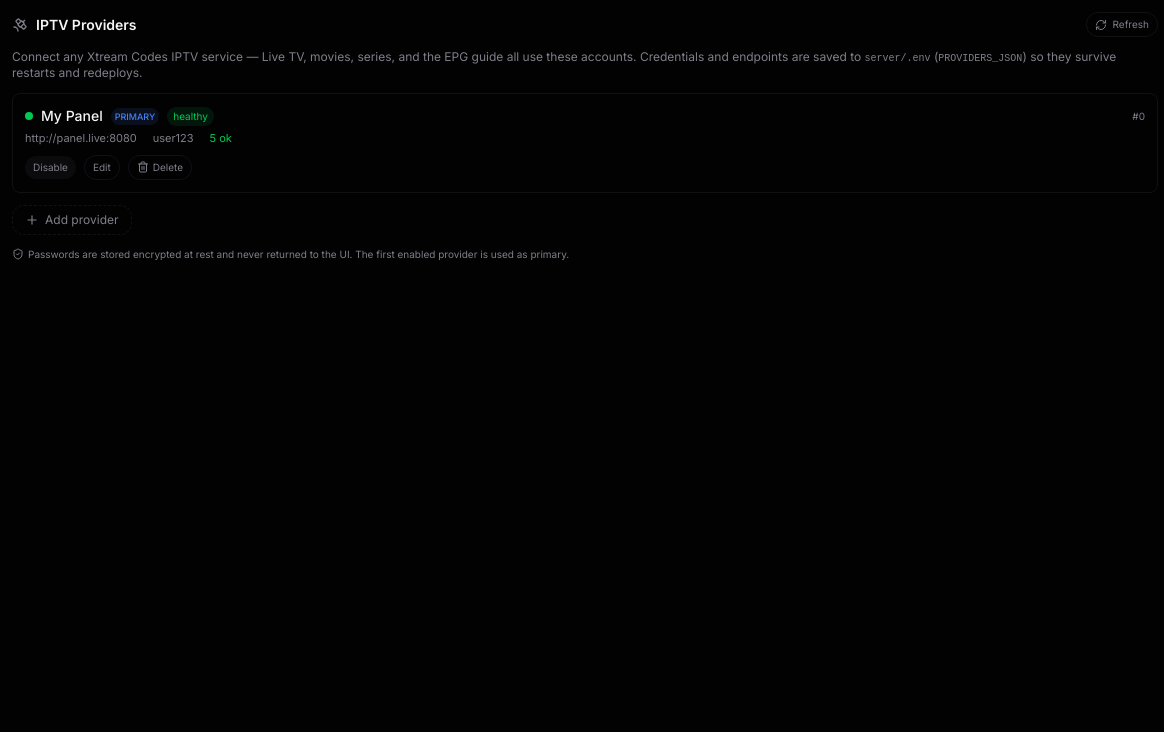
Test: ProviderSettings › opens the add form and adds a provider
Check: the text "Connect any Xtream Codes IPTV service" is shown, box [12,49,861,64]
Click the button "Add provider" at (72, 220), box [12,205,132,235]
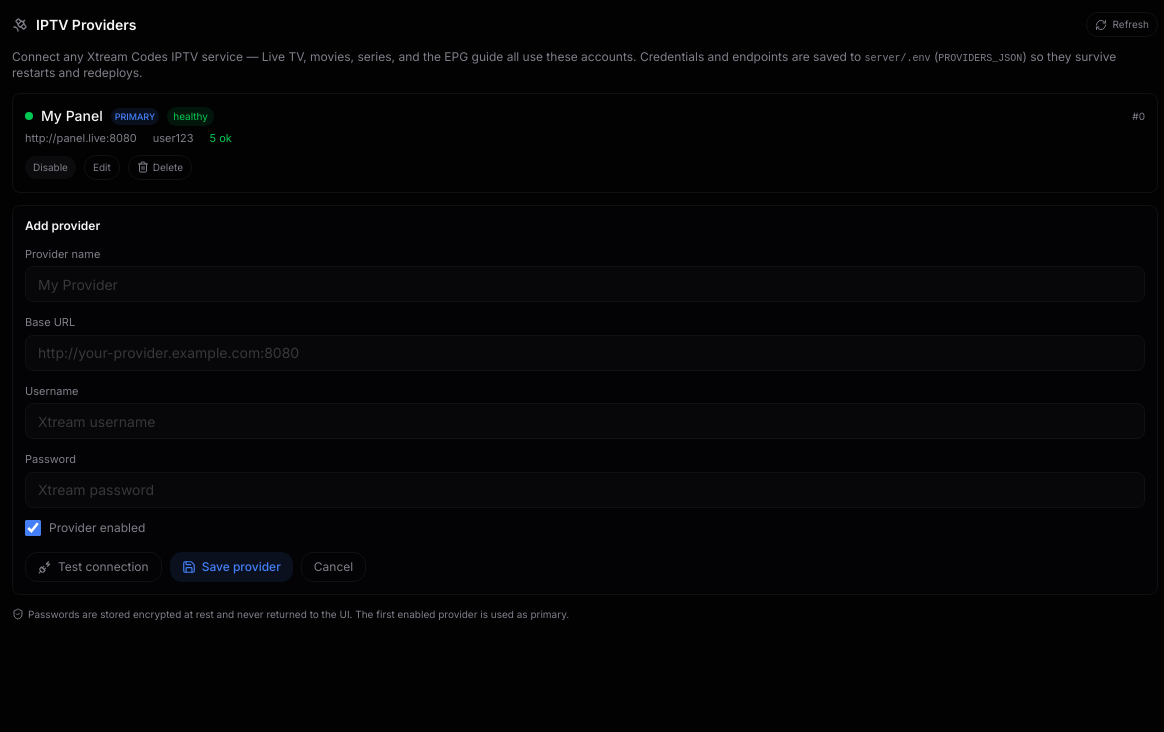
Type "http://new.live" into the field labelled "Base URL" at (585, 353), box [25,335,1145,371]
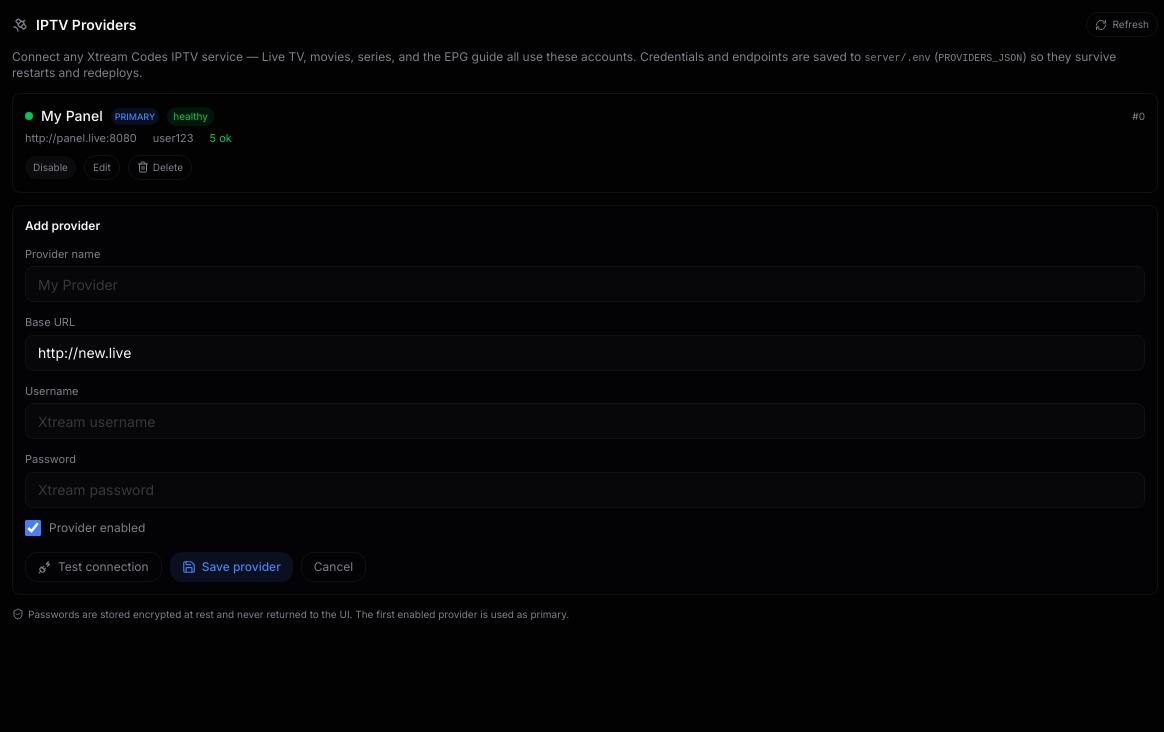
Type "newuser" into the field labelled "Username" at (585, 421), box [25,403,1145,439]
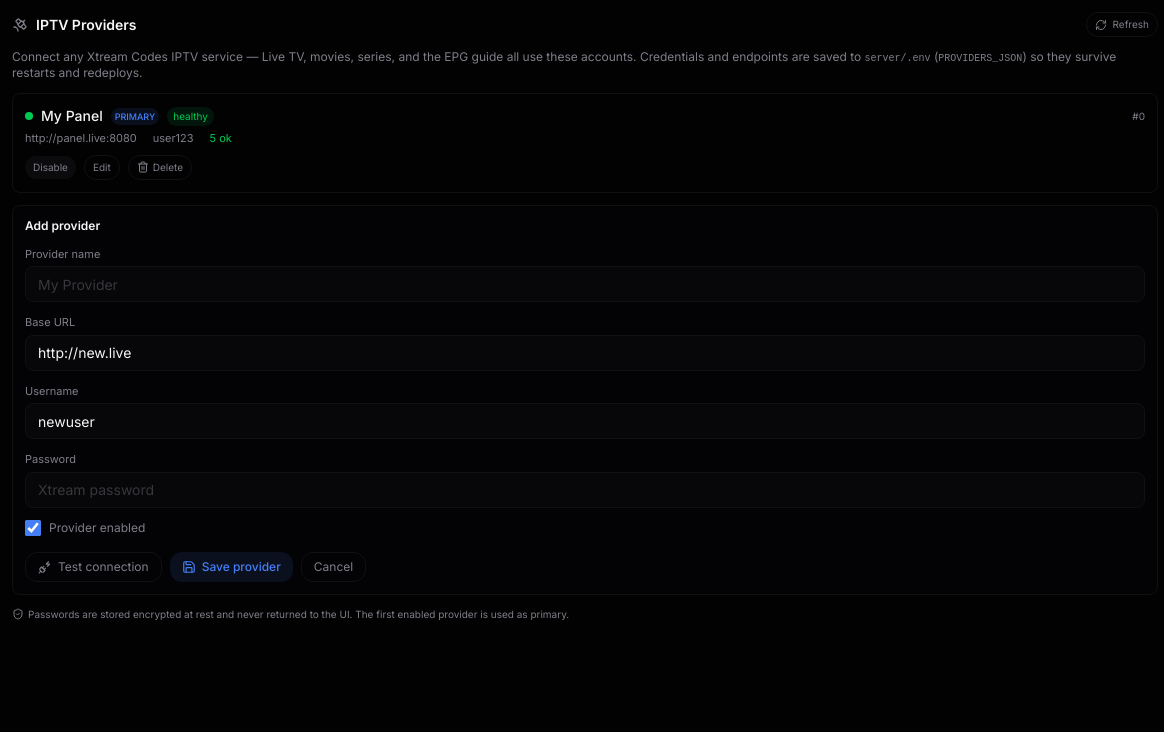
Type "secret" into the password field labelled "Password" at (585, 490), box [25,472,1145,508]
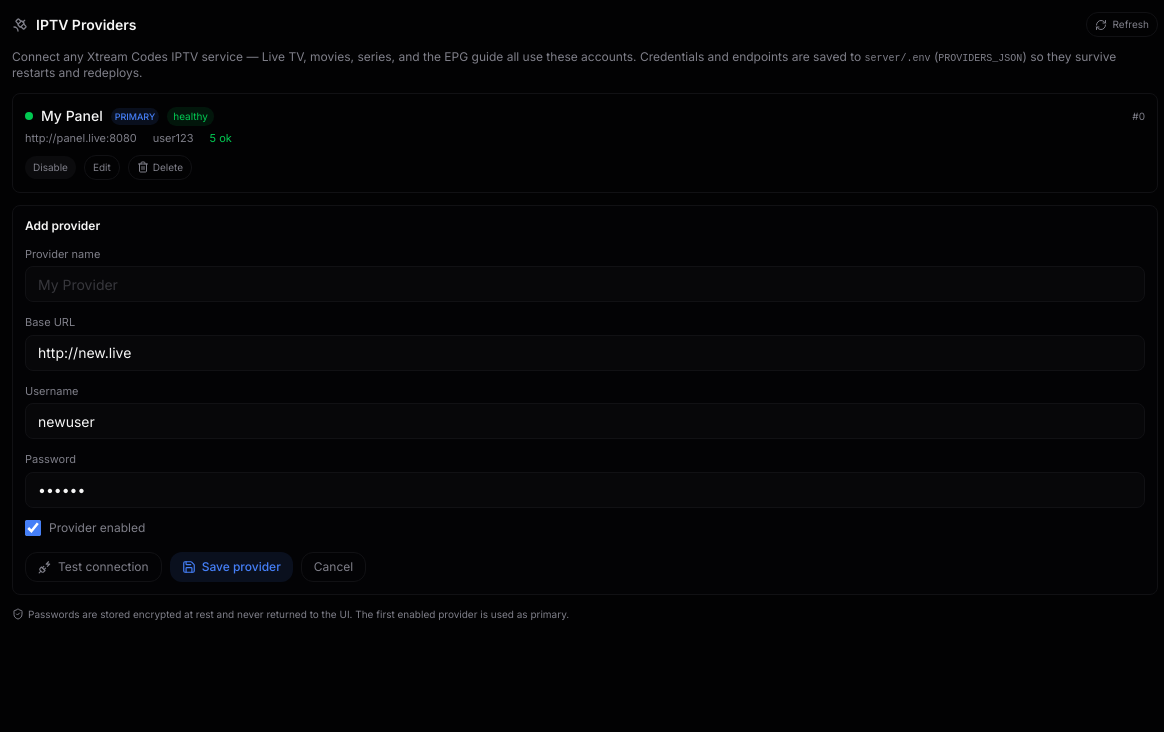
Click the button "Save provider" at (231, 567), box [170,552,293,582]
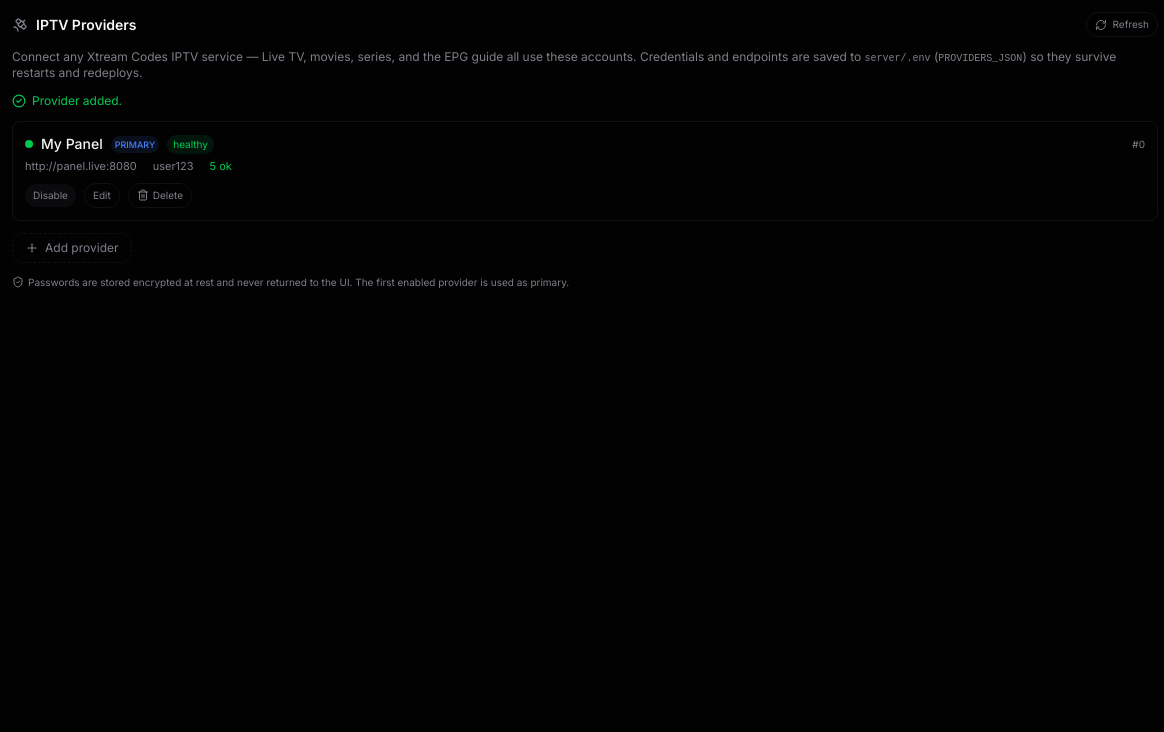
Check: the text "Provider added." is shown, box [12,93,122,108]
